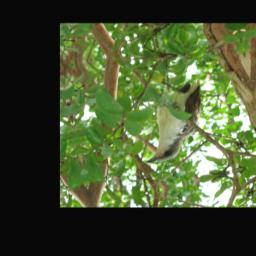Cuckoo: (131, 77, 216, 166)
